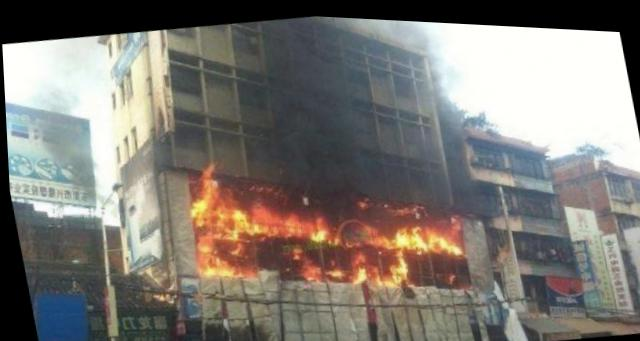fire: (210, 197, 252, 237), (193, 250, 251, 277), (422, 218, 463, 252), (248, 194, 283, 233), (385, 245, 410, 282), (345, 242, 369, 280), (394, 217, 426, 245), (186, 193, 213, 225), (193, 229, 217, 264), (197, 163, 219, 199), (281, 206, 308, 233), (296, 252, 322, 277), (305, 210, 328, 237), (364, 261, 390, 284), (363, 221, 388, 244), (324, 260, 346, 275), (288, 239, 302, 255)
smoke: (223, 9, 483, 168)
